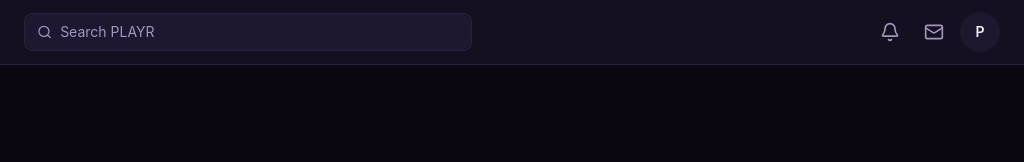
TopBar › shows recent searches when the empty search input is focused
Focus the search field labelled "Search PLAYR": [260, 32] box [60,22,459,42]
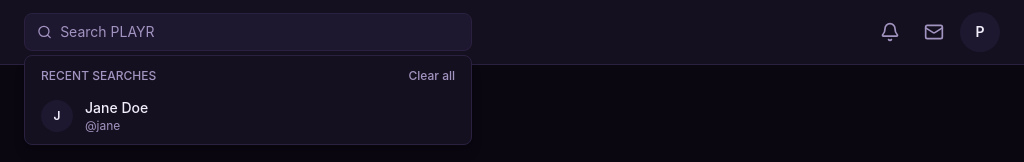
Expected: the text "Jane Doe" is shown, [85,98,148,118]
Expected: the text "@jane" is shown, [85,118,120,133]
